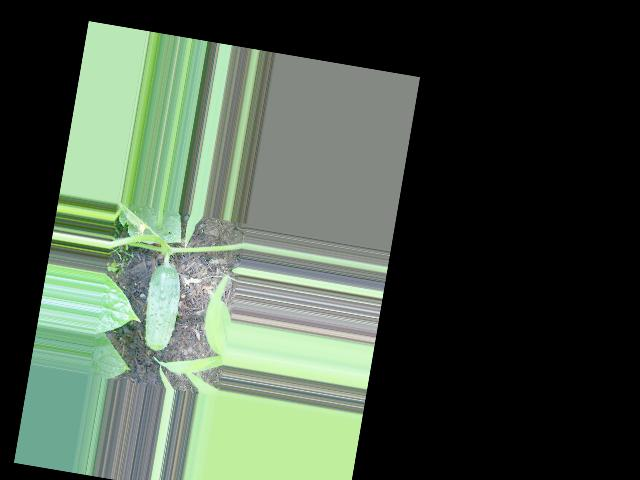cucumber: (138, 261, 185, 354)
